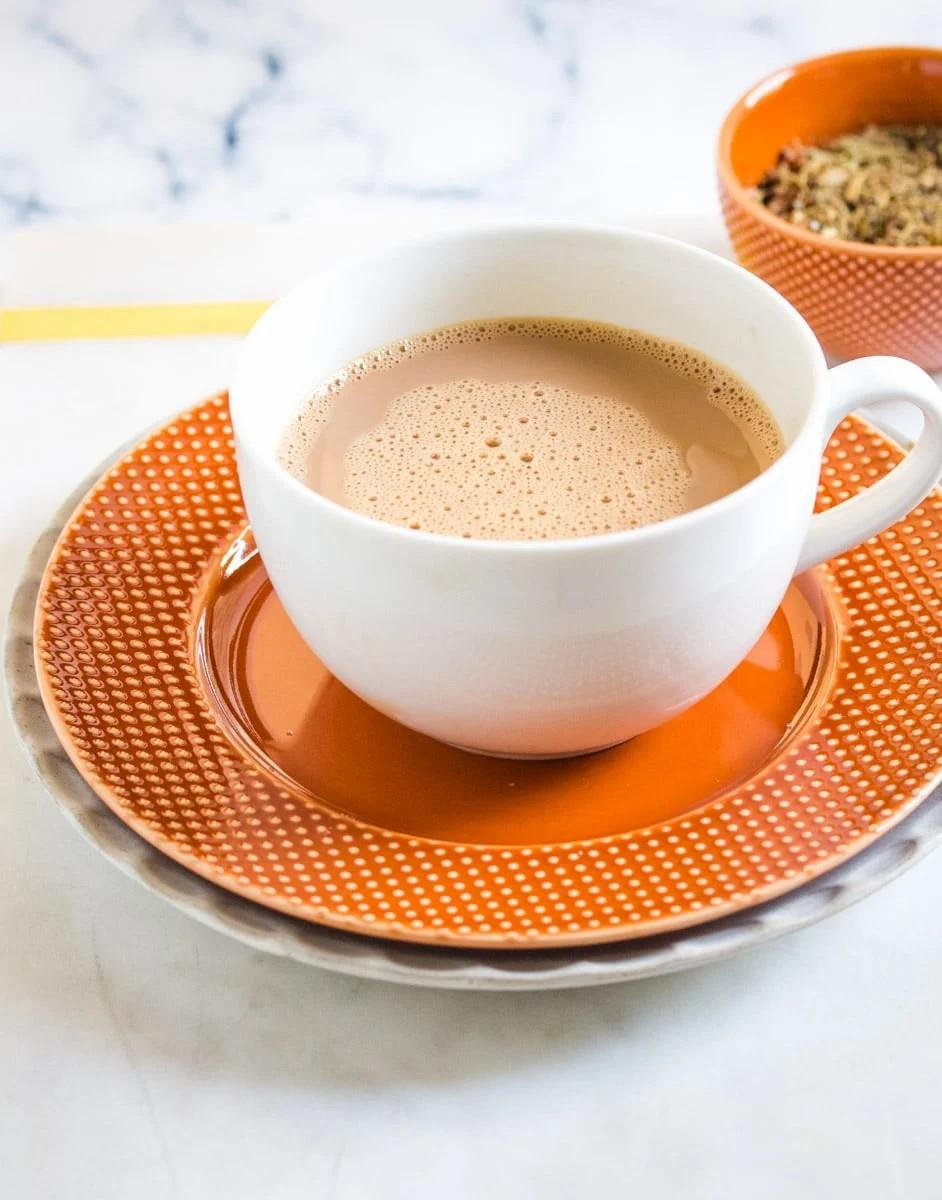Chai: (281, 319, 781, 539)
